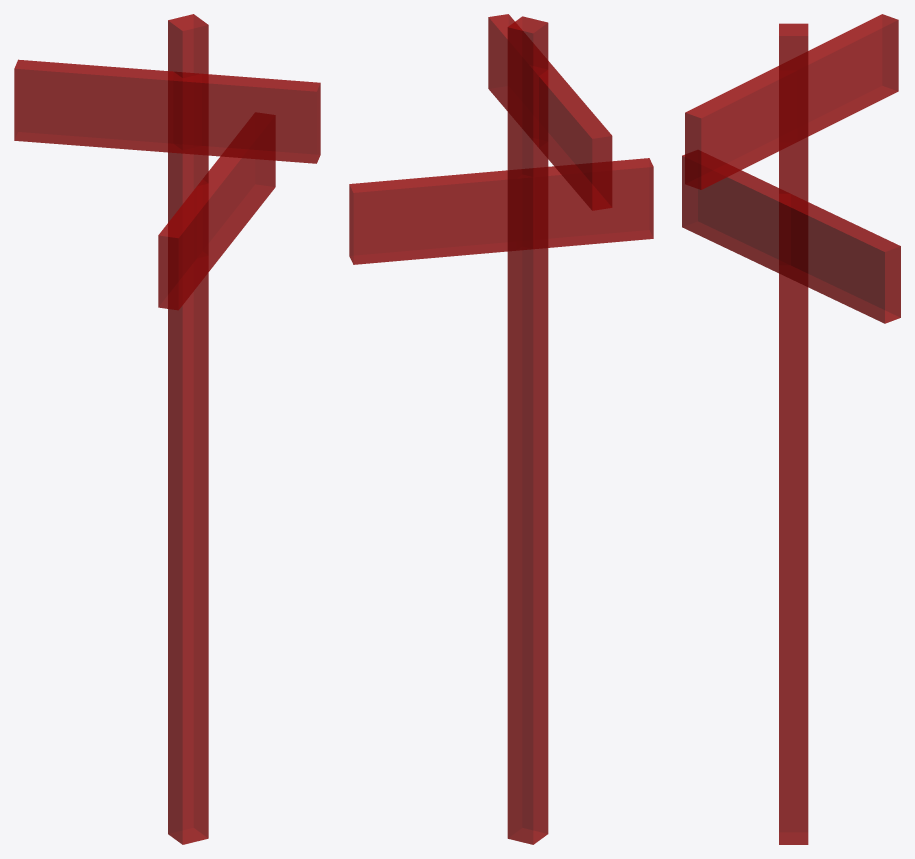
Rendered from SM_Prop_Sign_03_Collision.fbx.
The picture shows the model from 3 angles, left to right: view 1: azimuth 30°, elevation 25°; view 2: azimuth 150°, elevation 25°; view 3: azimuth 270°, elevation 25°; orthographic projection.
Visible parts, largest first — view 1: SM_Prop_Sign_03_Collision; view 2: SM_Prop_Sign_03_Collision; view 3: SM_Prop_Sign_03_Collision.
Boxes of the visible parts, left/top/right/bottom form: SM_Prop_Sign_03_Collision: left=14, top=14, right=320, bottom=844; SM_Prop_Sign_03_Collision: left=349, top=14, right=653, bottom=844; SM_Prop_Sign_03_Collision: left=682, top=14, right=900, bottom=844.
Size of the model in its own units: 100 by 297 by 72.94.
